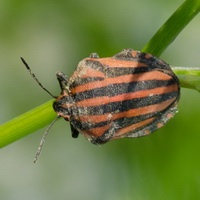insect: (53, 49, 179, 143)
